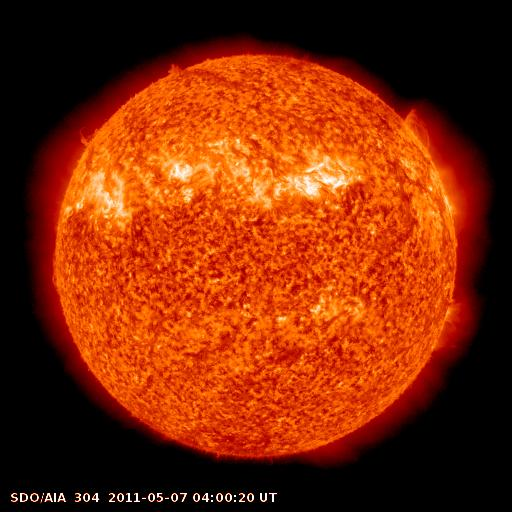prominence: (397, 98, 444, 160), (69, 120, 111, 153), (157, 54, 201, 84)
